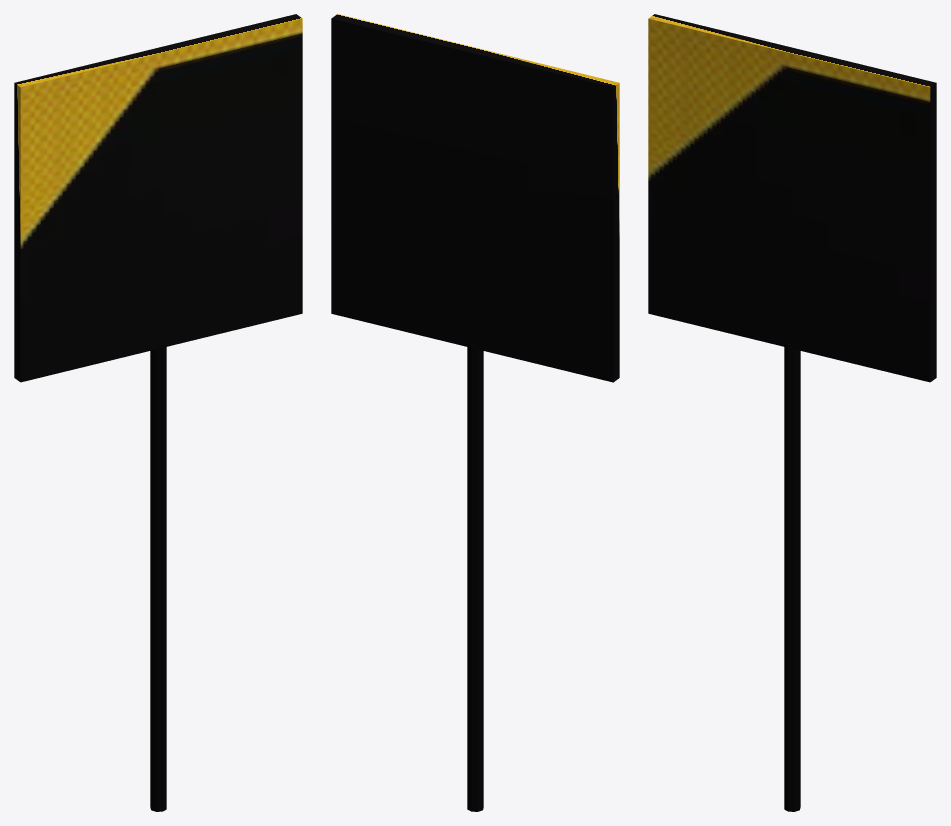
File: letrero de curva peligrosa.fbx
The picture shows the model from 3 angles, left to right: view 1: azimuth 30°, elevation 25°; view 2: azimuth 150°, elevation 25°; view 3: azimuth 330°, elevation 25°; orthographic projection.
Visible parts, largest first — view 1: Cube, Cylinder; view 2: Cube, Cylinder; view 3: Cube, Cylinder.
Boxes of the visible parts, x1,y1,x2,y2 form: Cube: (14,14,302,382); Cylinder: (150,343,166,811); Cube: (331,14,619,382); Cylinder: (467,343,483,811); Cube: (648,14,936,382); Cylinder: (784,343,800,811).
Size of the model in its own units: 200 by 514 by 10.37.
2 materials, 1 textured.
